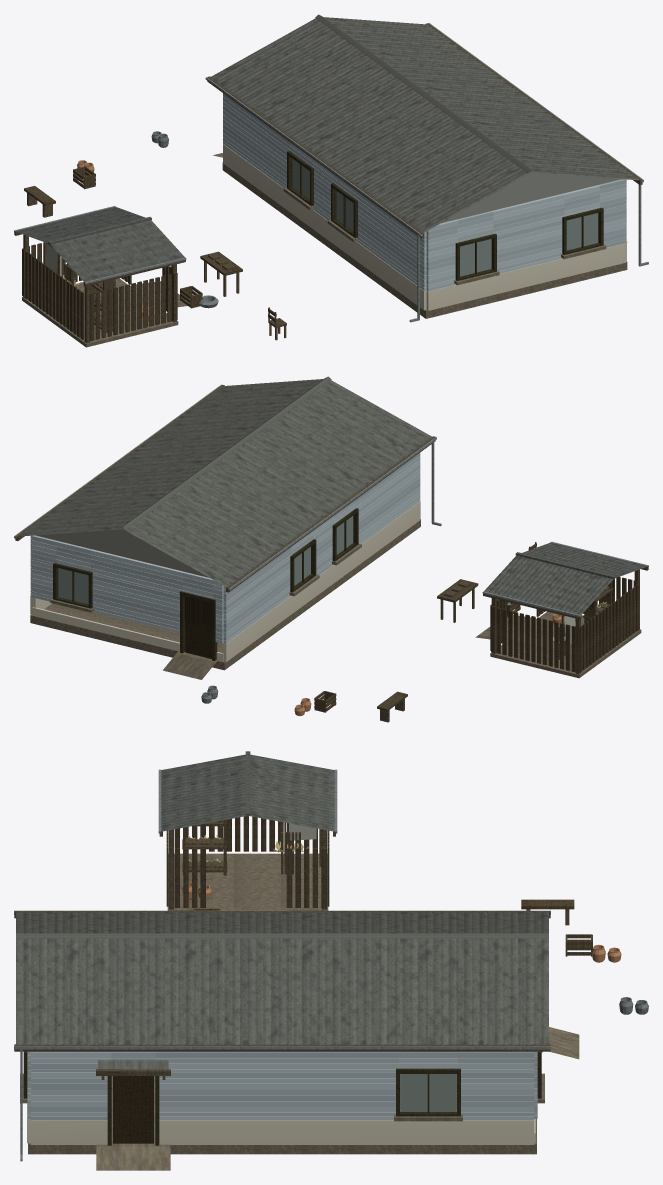
3 views of the same model, one above another, from view 1: azimuth 30°, elevation 25°; view 2: azimuth 150°, elevation 25°; view 3: azimuth 270°, elevation 25° (orthographic). The views are drawn at different scales.
Visible parts, largest first — view 1: H36_CHAPAS_ONDULADAS, H36_LATERAIS_REVESTIMENTO, H36_FUNDOS_REVESTIMENTO, H36_ABRIGO_RIPAS, H36_ABRIGO_COBERTURA, H36_LATERAIS_MINERAL, H36_FUNDOS_MINERAL, H36_FUNDACAO, H36_VIDROS_RECUADOS, H36_OITOES, H36_CAIXILHOS, H36_BEIRAIS (+7 smaller); view 2: H36_CHAPAS_ONDULADAS, H36_LATERAIS_REVESTIMENTO, H36_FUNDOS_REVESTIMENTO, H36_ABRIGO_RIPAS, H36_ABRIGO_COBERTURA, H36_FUNDACAO, H36_FUNDOS_MINERAL, H36_OITOES, H36_CAIXILHOS, H36_VIDROS_RECUADOS, H36_ABRIGO_BASE, H36_BEIRAIS (+8 smaller); view 3: H36_CHAPAS_ONDULADAS, H36_FACHADA_REVESTIMENTO, H36_FACHADA_MINERAL, H36_ABRIGO_COBERTURA, H36_ABRIGO_RIPAS, H36_ABRIGO_BASE, H36_FUNDACAO, H36_BEIRAIS, H36_CUMEEIRA, H36_PORTA_FOLHA, H36_CALHA, H36_VIDROS_RECUADOS (+7 smaller).
Boxes of the visible parts, x1,y1,x2,y2 form: H36_CHAPAS_ONDULADAS: (211, 17, 638, 232); H36_LATERAIS_REVESTIMENTO: (426, 179, 625, 291); H36_FUNDOS_REVESTIMENTO: (223, 93, 426, 290); H36_ABRIGO_RIPAS: (22, 242, 177, 341); H36_ABRIGO_COBERTURA: (15, 207, 184, 281); H36_LATERAIS_MINERAL: (426, 243, 625, 310); H36_FUNDOS_MINERAL: (223, 144, 426, 310); H36_FUNDACAO: (222, 162, 627, 318); H36_VIDROS_RECUADOS: (292, 159, 598, 276); H36_OITOES: (441, 172, 621, 223); H36_CAIXILHOS: (287, 151, 603, 280); H36_BEIRAIS: (207, 23, 642, 238); H36_CHAPAS_ONDULADAS: (19, 379, 432, 586); H36_LATERAIS_REVESTIMENTO: (31, 535, 223, 643); H36_FUNDOS_REVESTIMENTO: (223, 453, 420, 643); H36_ABRIGO_RIPAS: (490, 576, 639, 672); H36_ABRIGO_COBERTURA: (484, 542, 647, 614); H36_FUNDACAO: (30, 519, 420, 670); H36_FUNDOS_MINERAL: (221, 501, 420, 661); H36_OITOES: (35, 529, 209, 577); H36_CAIXILHOS: (53, 508, 358, 608); H36_VIDROS_RECUADOS: (58, 516, 353, 604); H36_ABRIGO_BASE: (490, 611, 641, 678); H36_BEIRAIS: (15, 385, 435, 592); H36_CHAPAS_ONDULADAS: (16, 912, 548, 1044); H36_FACHADA_REVESTIMENTO: (31, 1051, 534, 1120); H36_FACHADA_MINERAL: (31, 1120, 534, 1144); H36_ABRIGO_COBERTURA: (161, 754, 334, 831); H36_ABRIGO_RIPAS: (166, 816, 329, 907); H36_ABRIGO_BASE: (167, 853, 328, 910); H36_FUNDACAO: (28, 1074, 536, 1154); H36_BEIRAIS: (14, 911, 550, 1051); H36_CUMEEIRA: (16, 933, 548, 938); H36_PORTA_FOLHA: (113, 1076, 153, 1143); H36_CALHA: (14, 910, 550, 1049); H36_VIDROS_RECUADOS: (400, 1074, 456, 1111).
Size of the model in its own units: 19.09 by 4.49 by 16.2.
15 materials, 9 textured.
